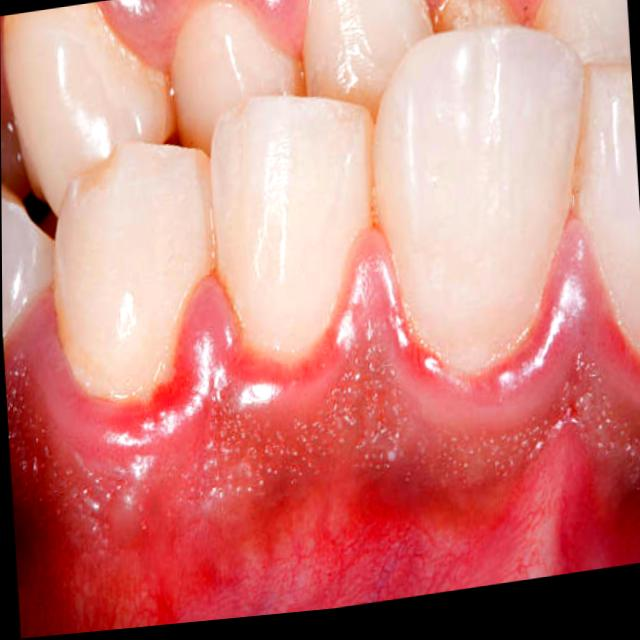gingivitis: (3, 227, 640, 638)
